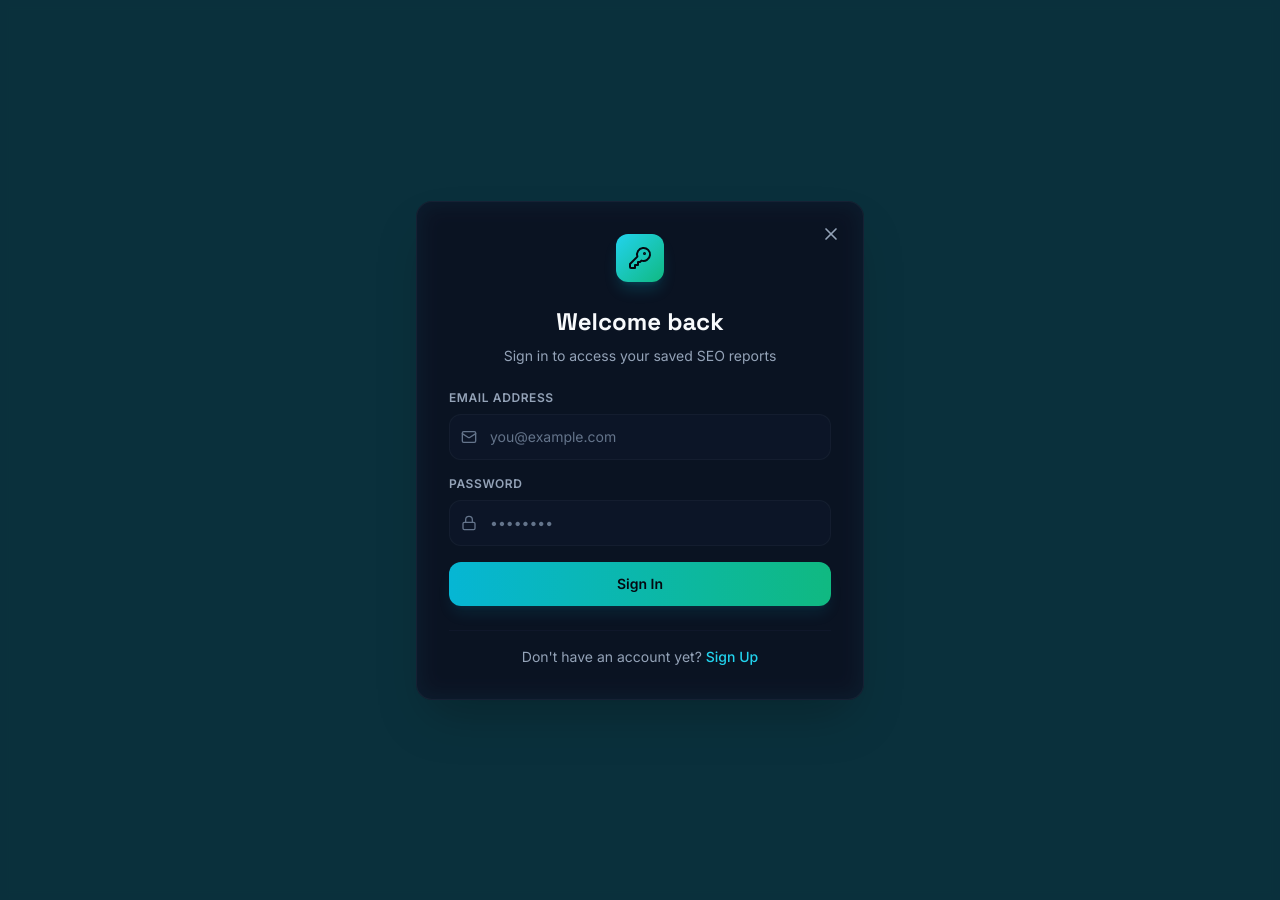
AuthModal - Login and Signup Automation Tests (JS) › should display error message on authentication failure
This screenshot has width=1280, height=900.
Type "user@example.com" into the field with placeholder "you@example.com" at (640, 436), box x1=449 y1=414 x2=831 y2=460
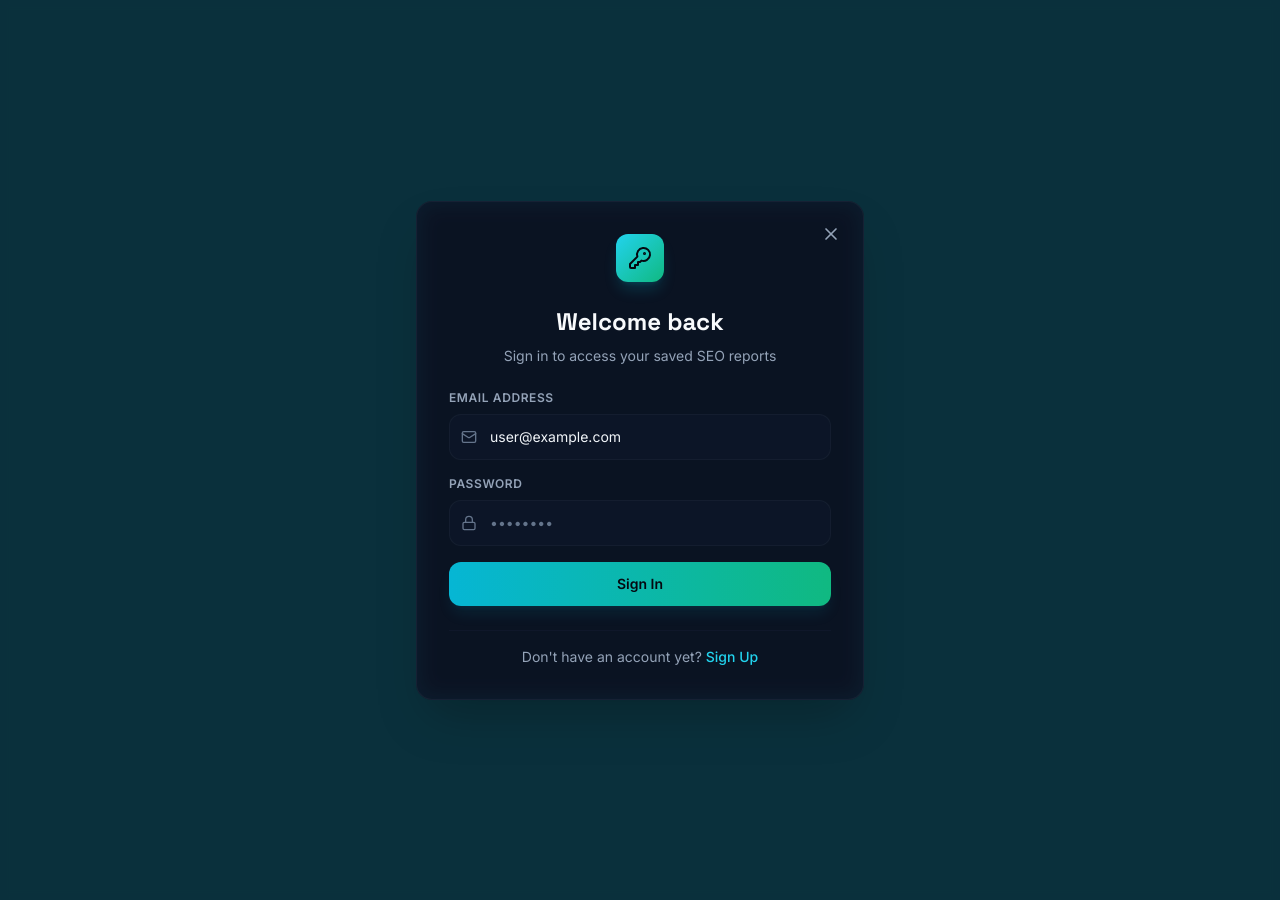
Type "wrongpassword" into the password field with placeholder "••••••••" at (640, 522), box x1=449 y1=500 x2=831 y2=546
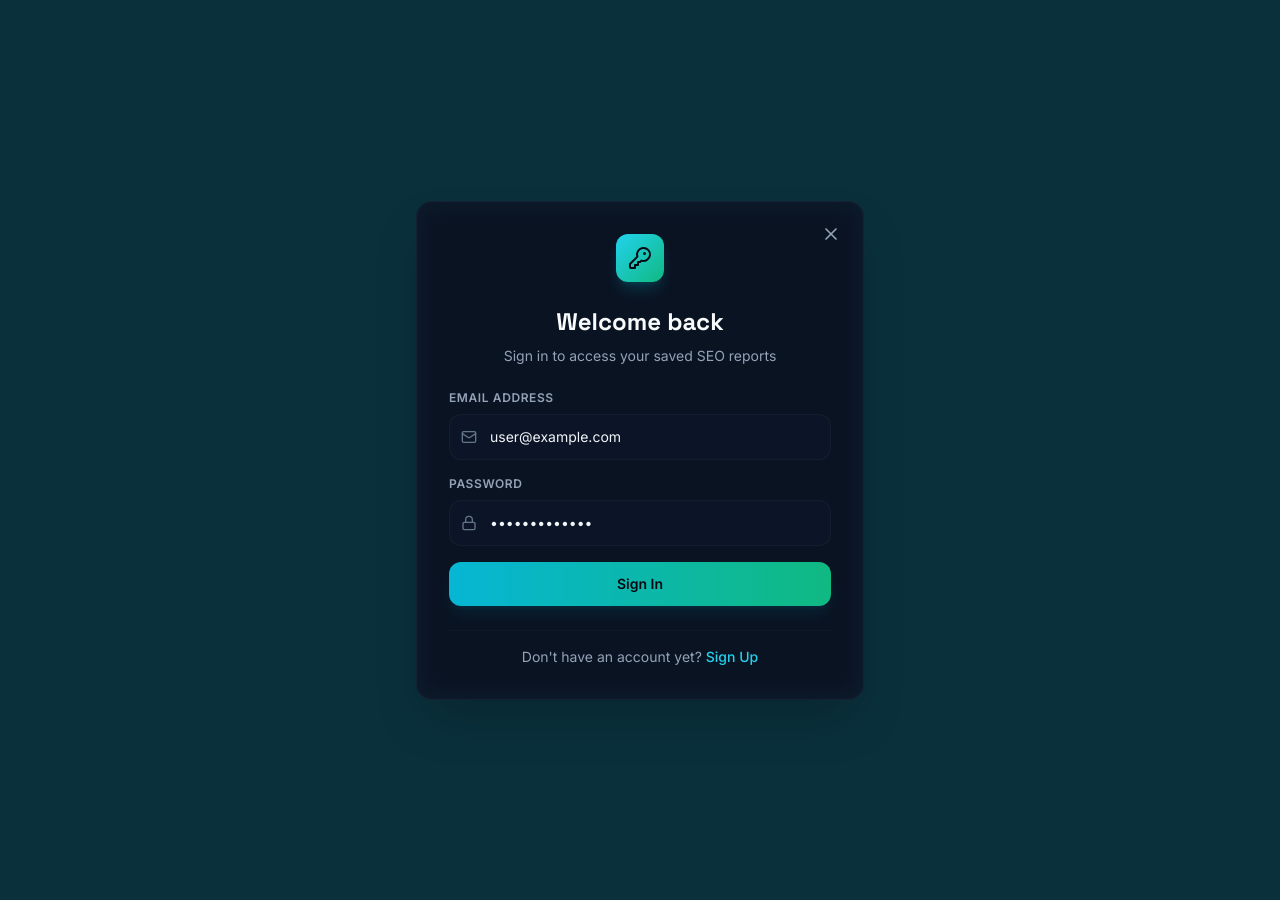
Click the button "Sign In" at (640, 584), box x1=449 y1=562 x2=831 y2=606
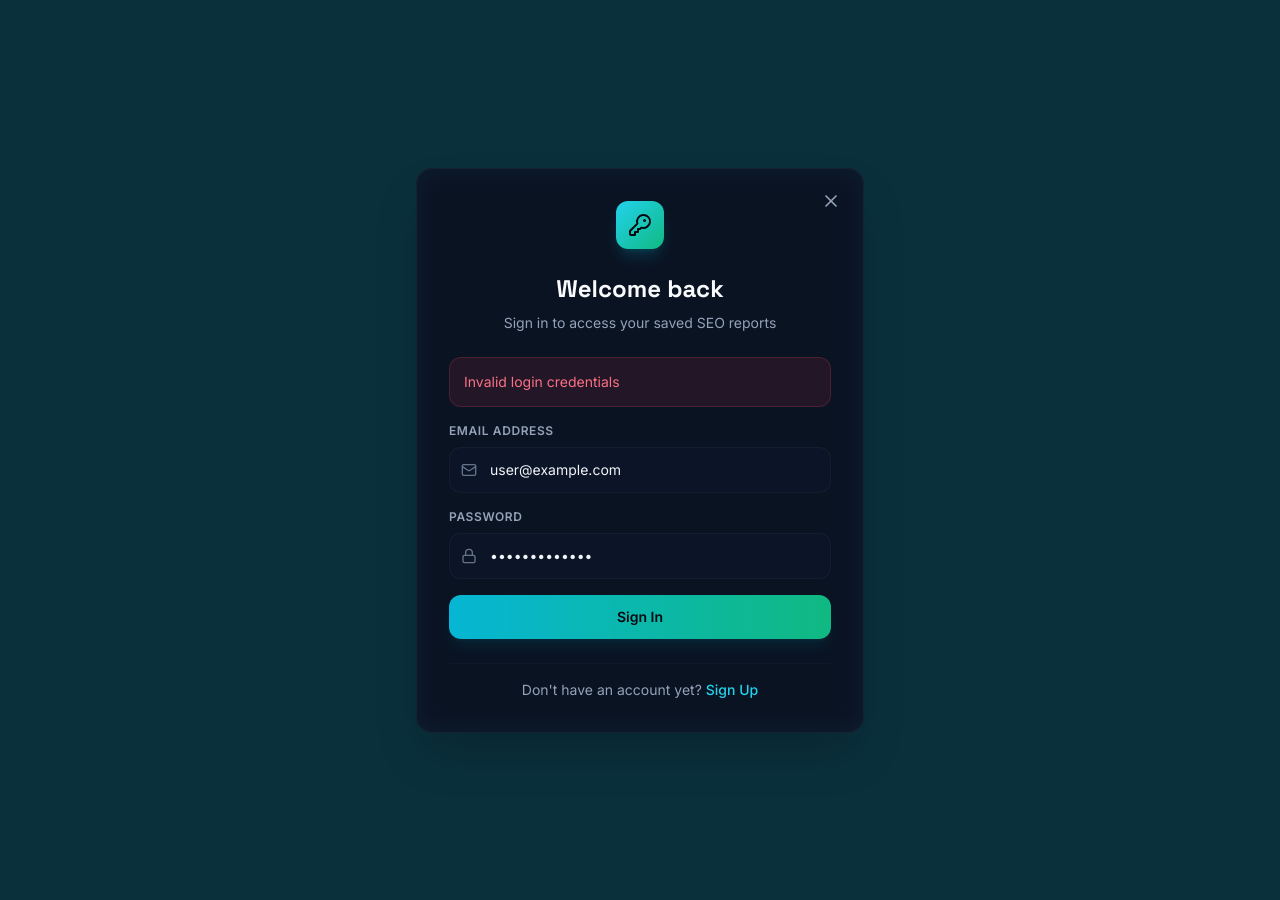
expect the text "Invalid login credentials" is shown: met, box x1=449 y1=356 x2=831 y2=406
